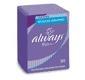grozi_82: (16, 4, 69, 74)
